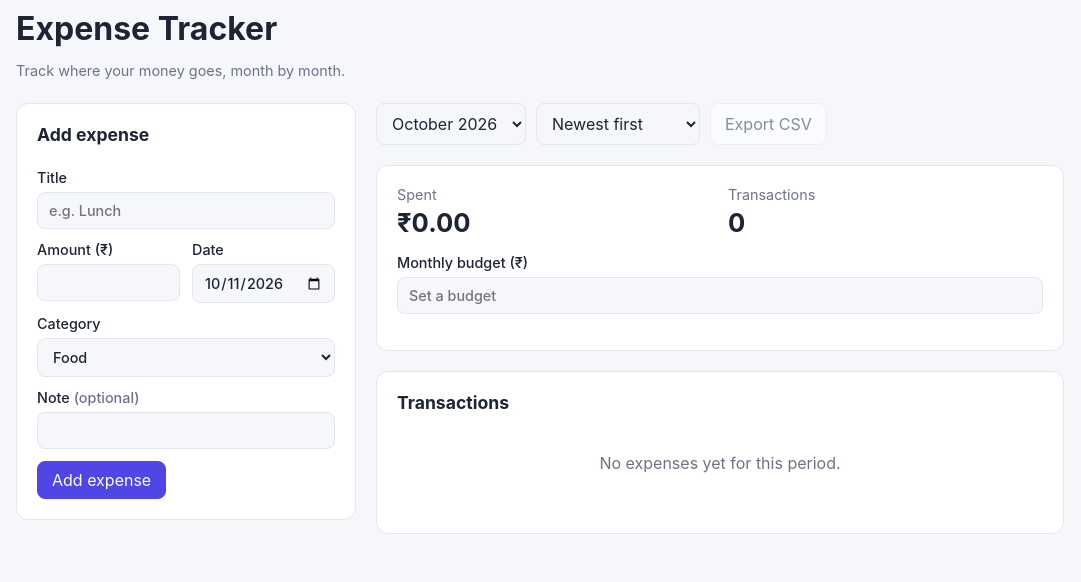
Test case: App › edits and deletes an expense
In the field labelled "Title": [186, 211] box [37, 192, 335, 229], type "Auto"
In the number field labelled "Amount (₹)": [108, 283] box [37, 264, 180, 301], type "80"
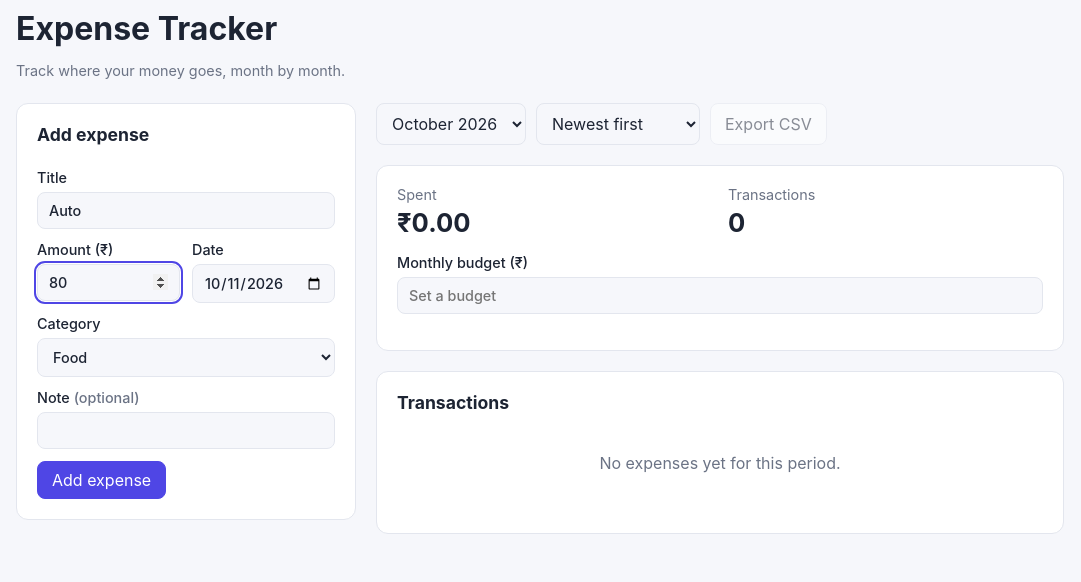
Click the button "Add expense": [102, 480] box [37, 461, 166, 499]
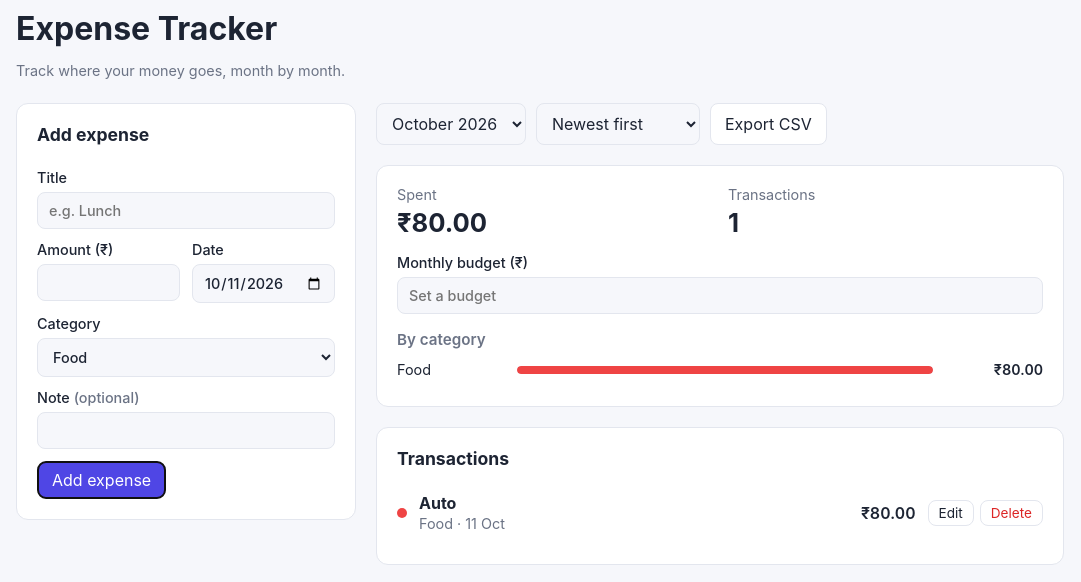
Click the button with aria-label "edit auto": [951, 513] box [928, 500, 974, 526]
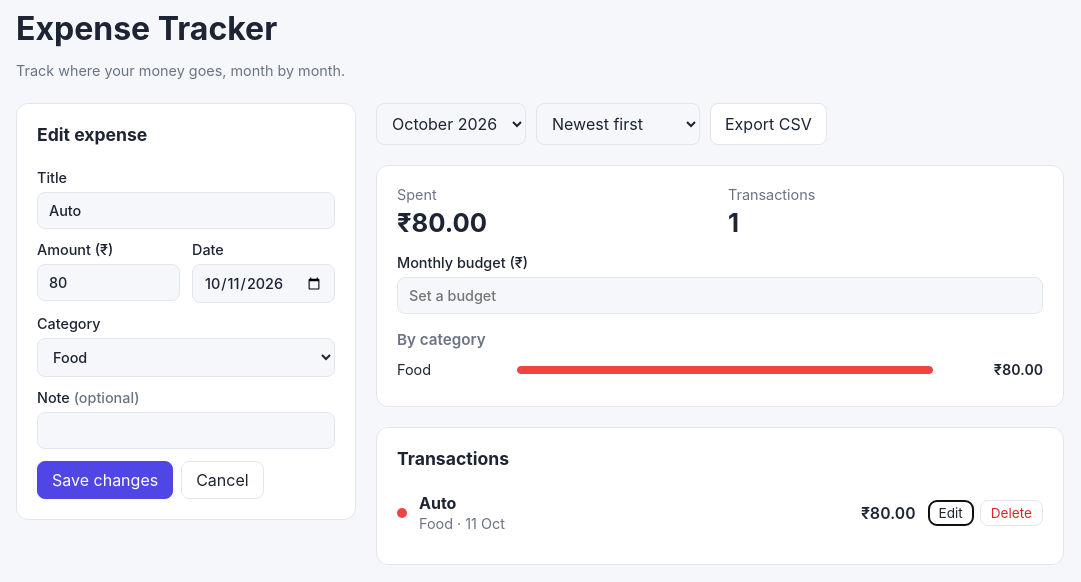
Replace the text in the number field labelled "Amount (₹)" with "120": [108, 283] box [37, 264, 180, 301]
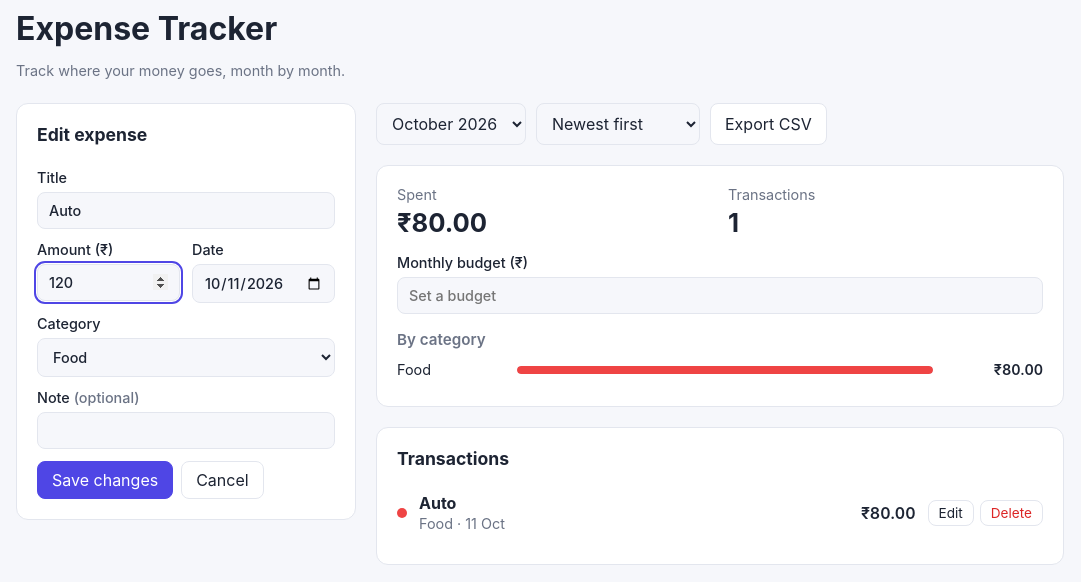
Click the button "Save changes": [105, 480] box [37, 461, 173, 499]
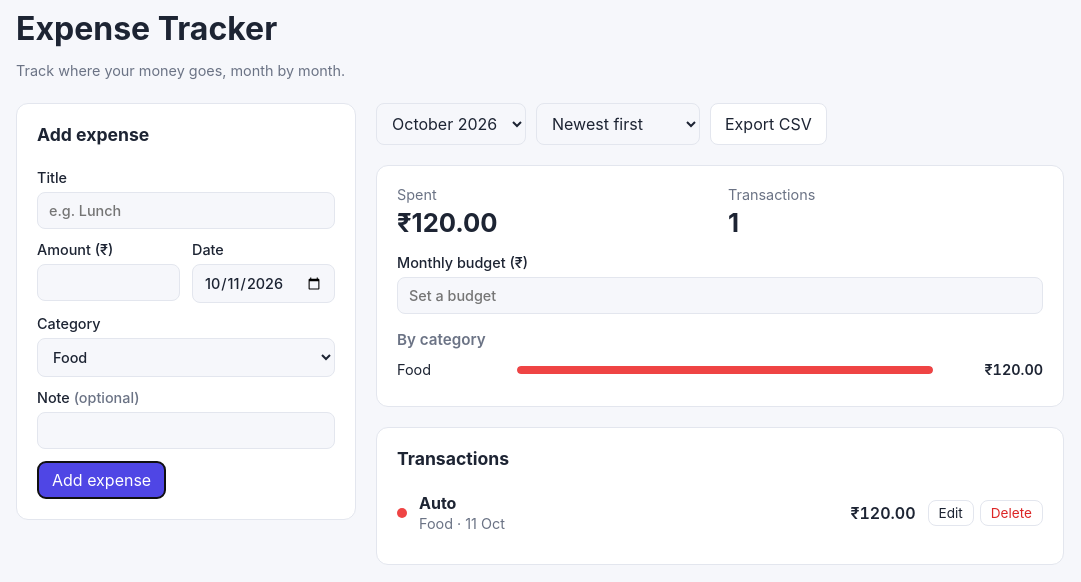
Result: the text with test id "total" shows "120" at [397, 207, 498, 238]
Click the button with aria-label "delete auto": [1011, 513] box [980, 500, 1043, 526]
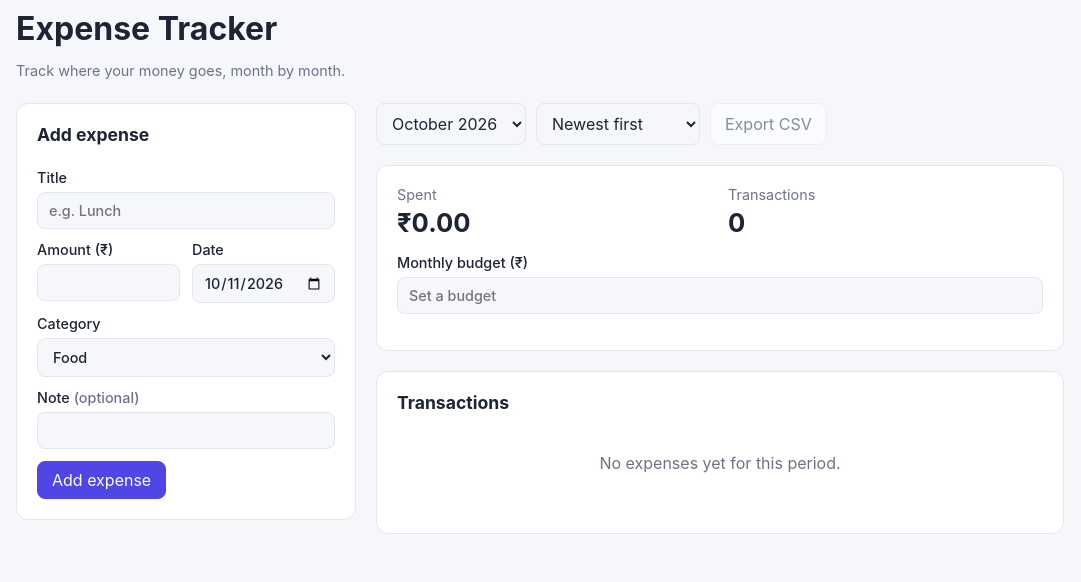
Result: the text "Auto" is gone
